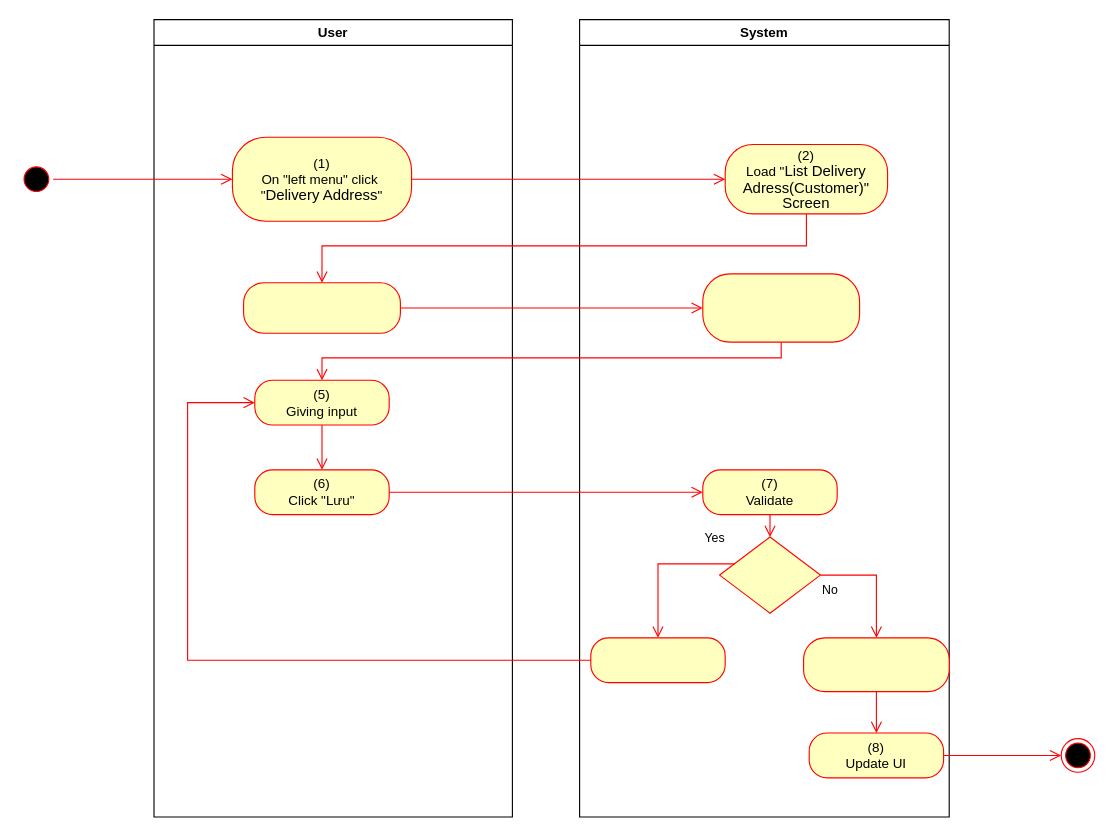
Image size: 1114x837. Some labels were removed from this diagram. Here are the shapes that lost their labels. From the top down, the box of each, then its label:
(242, 282, 400, 333): (3) Click button "Thêm địa chỉ giao hàng"
(702, 273, 860, 342): (4) Load " CRUD Delivery Address "
(590, 637, 725, 683): (7.1) Show MSG
(802, 637, 949, 692): (7.2) Push new delivery address to DB
